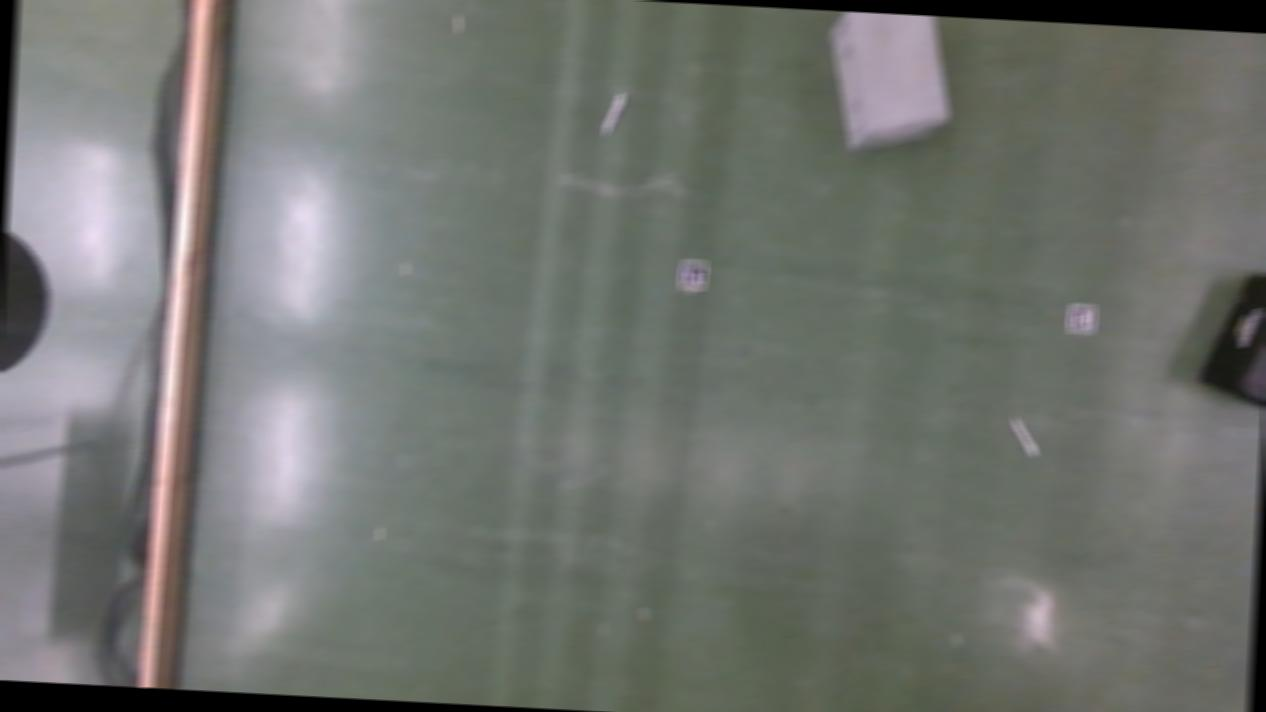probes: (1010, 417, 1036, 458), (602, 92, 624, 138)
rako: (824, 10, 955, 157), (1196, 271, 1266, 410)
